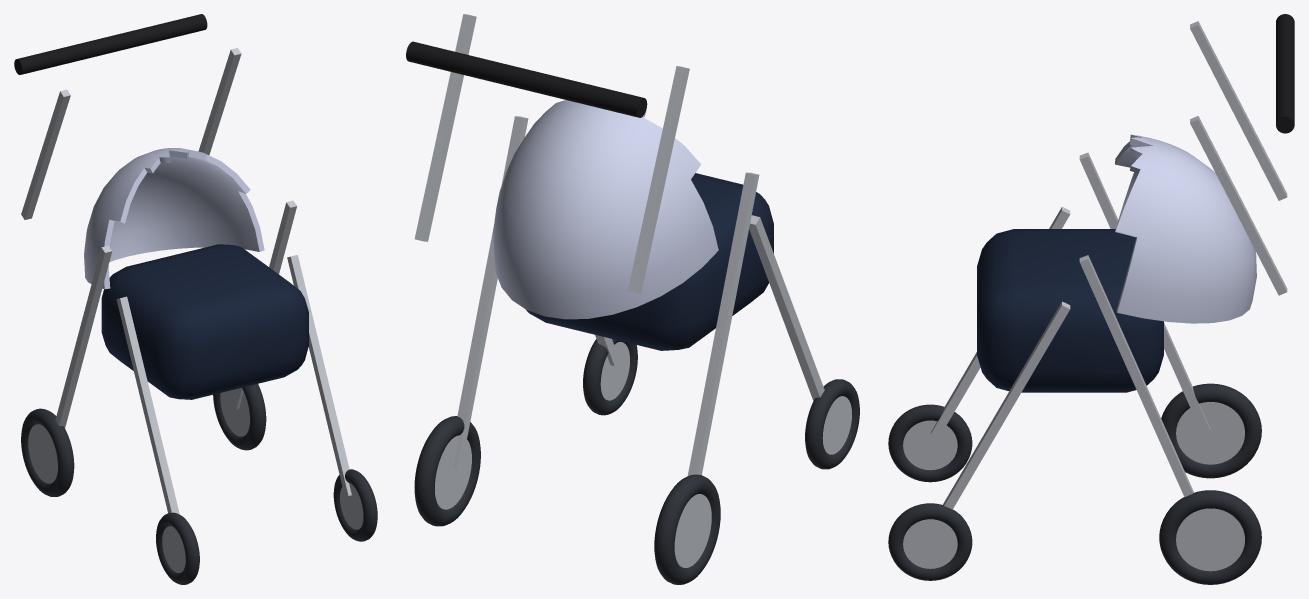
Rendered from stroller.glb.
3 views of the same model, side by side, from view 1: azimuth 30°, elevation 25°; view 2: azimuth 150°, elevation 25°; view 3: azimuth 270°, elevation 25° (orthographic). The views are drawn at different scales.
Parts seen in each view (by area): view 1: seat.003, canopy, hbar, legf-1, legf1, wb-1_tire, legb-1, wf-1_tire.001, wf1_tire.001, wb1_tire, handle-1, handle1 (+5 smaller); view 2: canopy, seat.003, hbar, legb-1, wb-1_tire, wb1_tire, legb1, handle-1, handle1, legf-1, wf-1_tire.001, wf1_tire.001 (+4 smaller); view 3: seat.003, canopy, wb1_tire, wb-1_tire, wb1_rim, wb-1_rim, wf1_tire.001, legb1, wf-1_tire.001, legf1, handle-1, handle1 (+5 smaller).
Boxes of the visible parts, <box> form: seat.003: <box>101,244,308,399</box>; canopy: <box>84,148,264,289</box>; hbar: <box>14,14,207,74</box>; legf-1: <box>116,296,179,514</box>; legf1: <box>287,255,351,496</box>; wb-1_tire: <box>21,408,74,496</box>; legb-1: <box>55,245,112,427</box>; wf-1_tire.001: <box>156,512,199,584</box>; wf1_tire.001: <box>333,469,377,541</box>; wb1_tire: <box>213,384,266,450</box>; handle-1: <box>21,89,70,219</box>; handle1: <box>198,48,241,154</box>; canopy: <box>493,100,718,319</box>; seat.003: <box>526,173,773,350</box>; hbar: <box>406,41,647,117</box>; legb-1: <box>687,172,759,475</box>; wb-1_tire: <box>654,474,720,584</box>; wb1_tire: <box>414,416,480,526</box>; legb1: <box>453,116,528,469</box>; handle-1: <box>628,66,689,293</box>; handle1: <box>414,14,476,241</box>; legf-1: <box>749,215,824,400</box>; wf-1_tire.001: <box>805,379,859,469</box>; wf1_tire.001: <box>583,339,637,415</box>; seat.003: <box>977,229,1163,392</box>; canopy: <box>1115,134,1256,323</box>; wb1_tire: <box>1159,490,1261,584</box>; wb-1_tire: <box>1161,383,1261,478</box>; wb1_rim: <box>1176,508,1244,571</box>; wb-1_rim: <box>1176,402,1244,464</box>; wf1_tire.001: <box>888,503,972,580</box>; legb1: <box>1079,255,1193,497</box>; wf-1_tire.001: <box>888,404,972,482</box>; legf1: <box>943,301,1070,509</box>; handle-1: <box>1190,21,1287,200</box>; handle1: <box>1190,116,1287,295</box>.
Size of the model in its own units: 0.58 by 1.1 by 0.87.
